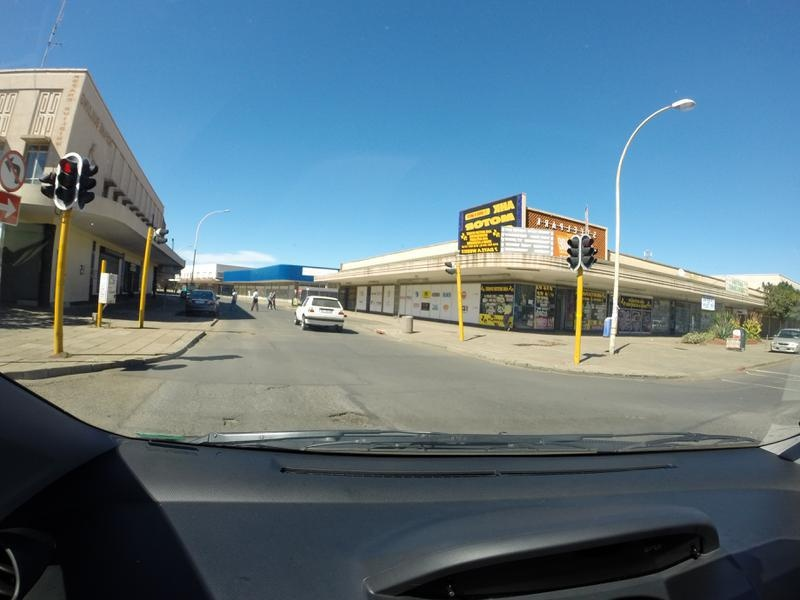pothole: (322, 399, 384, 427), (261, 379, 290, 395), (218, 410, 240, 429)
